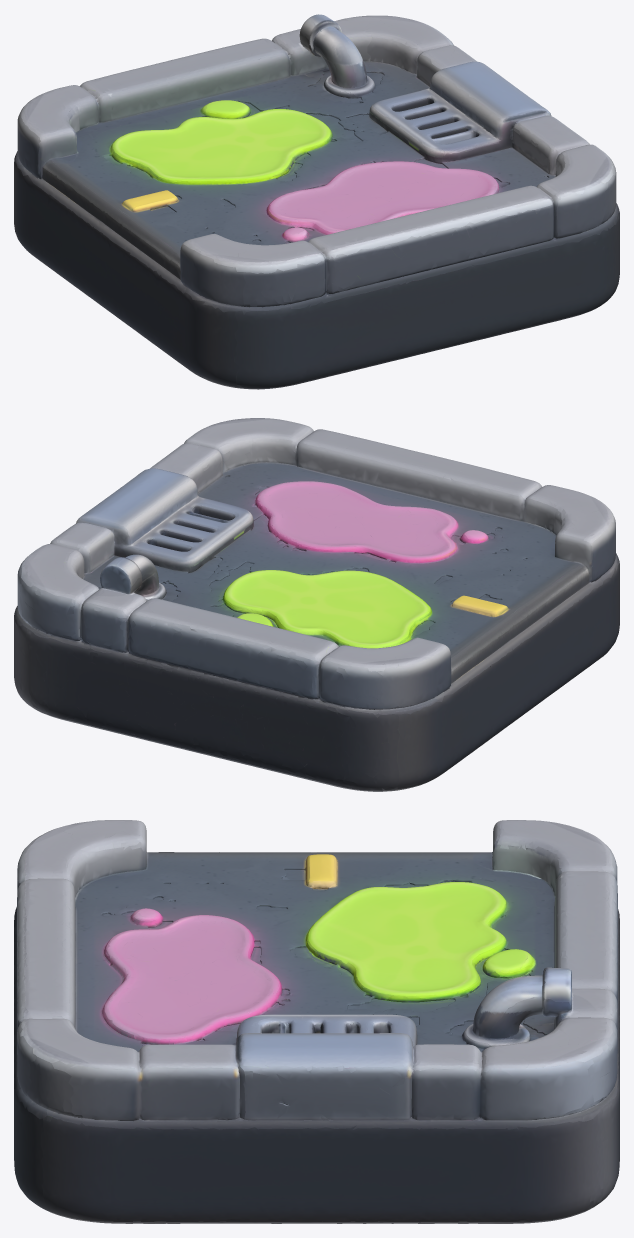
File: u_ter_neon_puddle.glb
3 views of the same model, one above another, from view 1: azimuth 30°, elevation 25°; view 2: azimuth 150°, elevation 25°; view 3: azimuth 270°, elevation 25° (orthographic). The views are drawn at different scales.
Parts seen in each view (by area): view 1: geometry_0; view 2: geometry_0; view 3: geometry_0.
Part boxes in pixels (x1,y1,x2,y2): geometry_0: (14, 14, 619, 389); geometry_0: (14, 418, 619, 791); geometry_0: (14, 820, 619, 1223).
Size of the model in its own units: 0.32 by 0.1153 by 0.32.
Materials: 1 (1 with a texture image).
